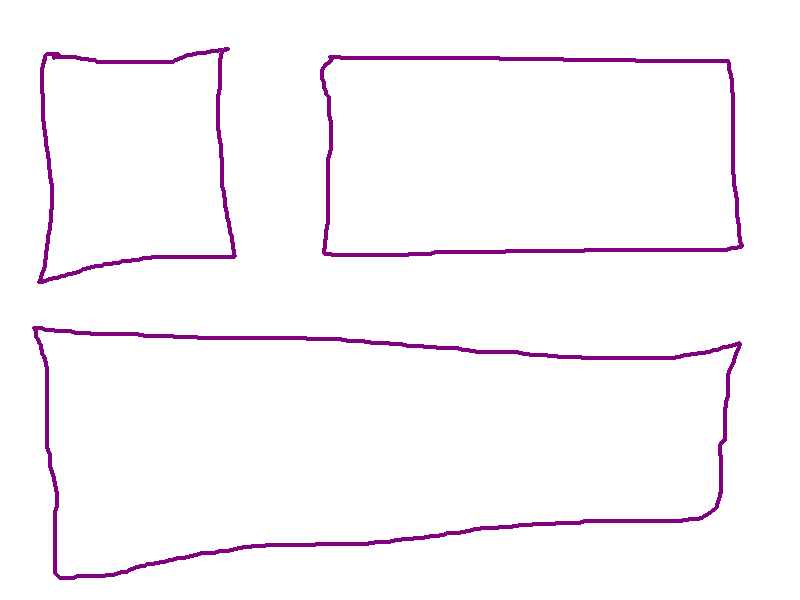rect: (32, 317, 747, 583), (315, 45, 751, 264), (32, 40, 246, 287)
